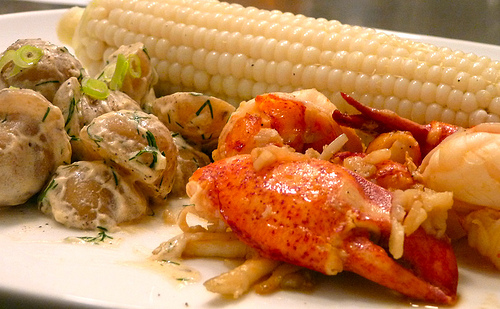corn: (50, 0, 499, 178)
